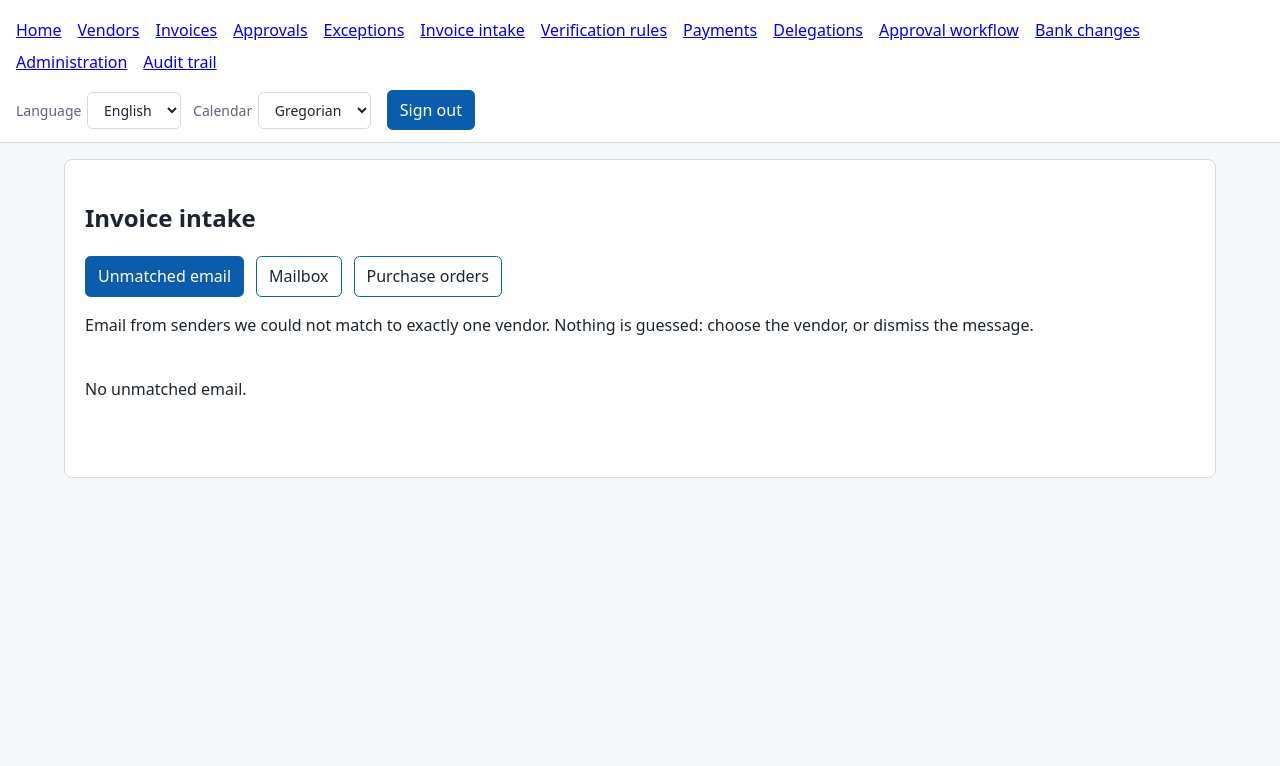
Scenario: invoice intake › imports purchase orders and reports problems per order
Step 1. Click the tab "Purchase orders" → [428, 276], box [354,256,502,297]
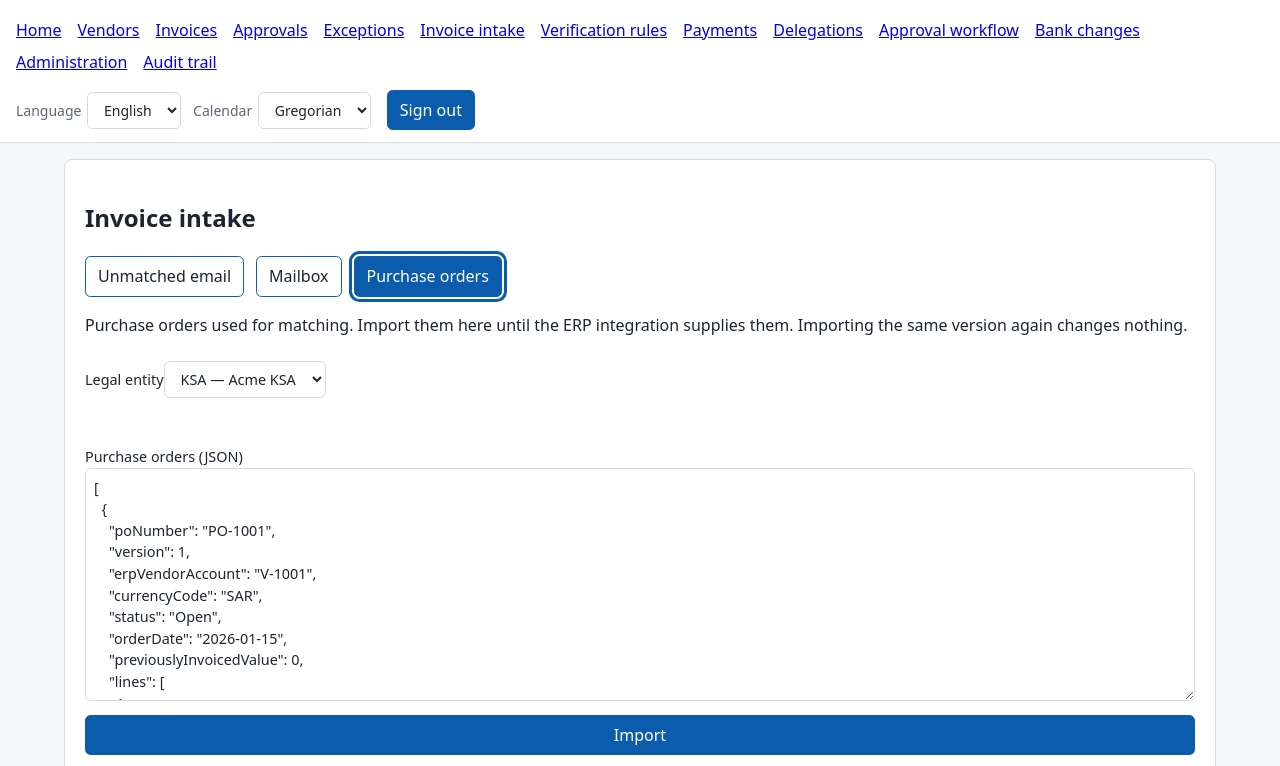
Step 2. Click the button "Import" → [640, 735], box [85,715,1195,755]
(page scrolled)
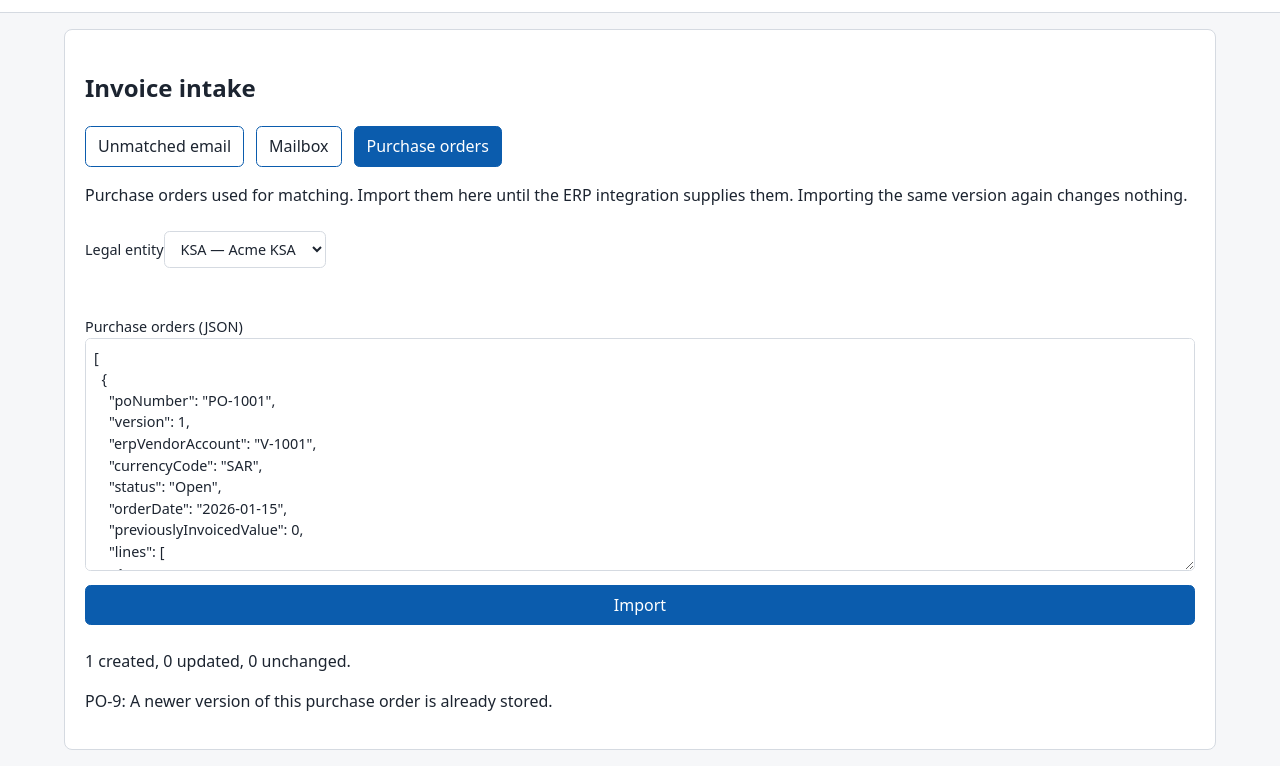
Check: the text "1 created, 0 updated, 0 unchanged." is shown, box [85,650,351,672]
Check: the list item "A newer version of this purchase order is already stored" is shown, box [130,690,553,712]
